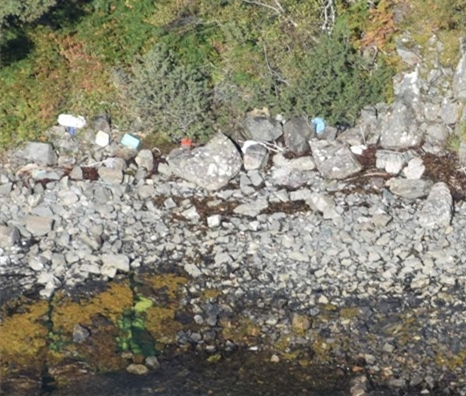net: (234, 132, 285, 161)
scattered_barrel: (51, 101, 200, 153)
white_in_green: (291, 102, 348, 151)
